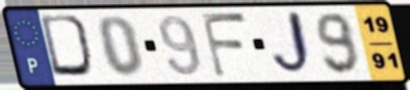0: (96, 13, 148, 79)
9: (314, 11, 365, 77), (156, 13, 204, 78)
D: (36, 13, 99, 81)
F: (198, 10, 251, 80)
J: (268, 9, 316, 79)
